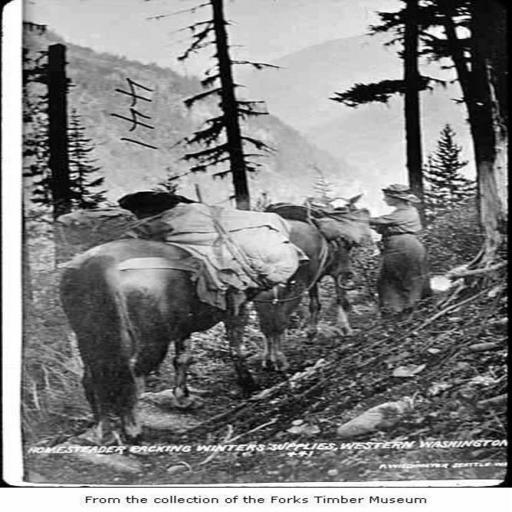horse: (56, 236, 264, 448), (253, 216, 355, 372), (316, 190, 365, 212)
